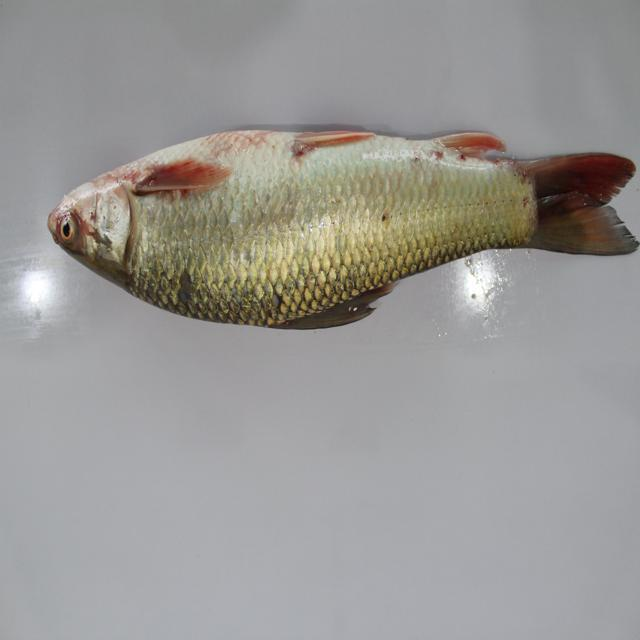Mori: (38, 82, 640, 340)
